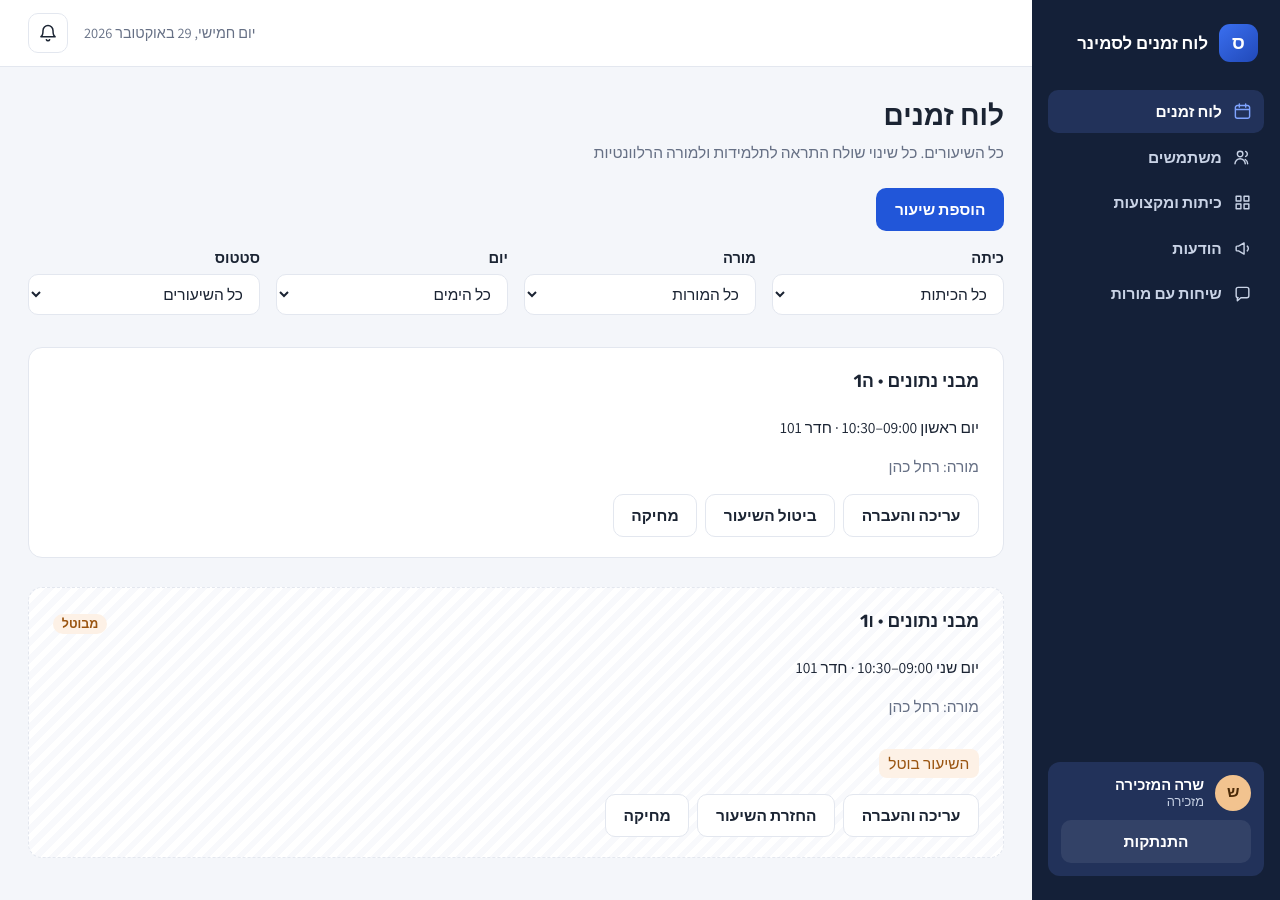
Test: ניהול לוח זמנים › החזרת שיעור מבוטל
Expected: the heading "מבני נתונים · ו1" is shown, [860, 608, 979, 634]
Step 1. Click the button "החזרת השיעור" → (766, 815), box [698, 794, 835, 837]
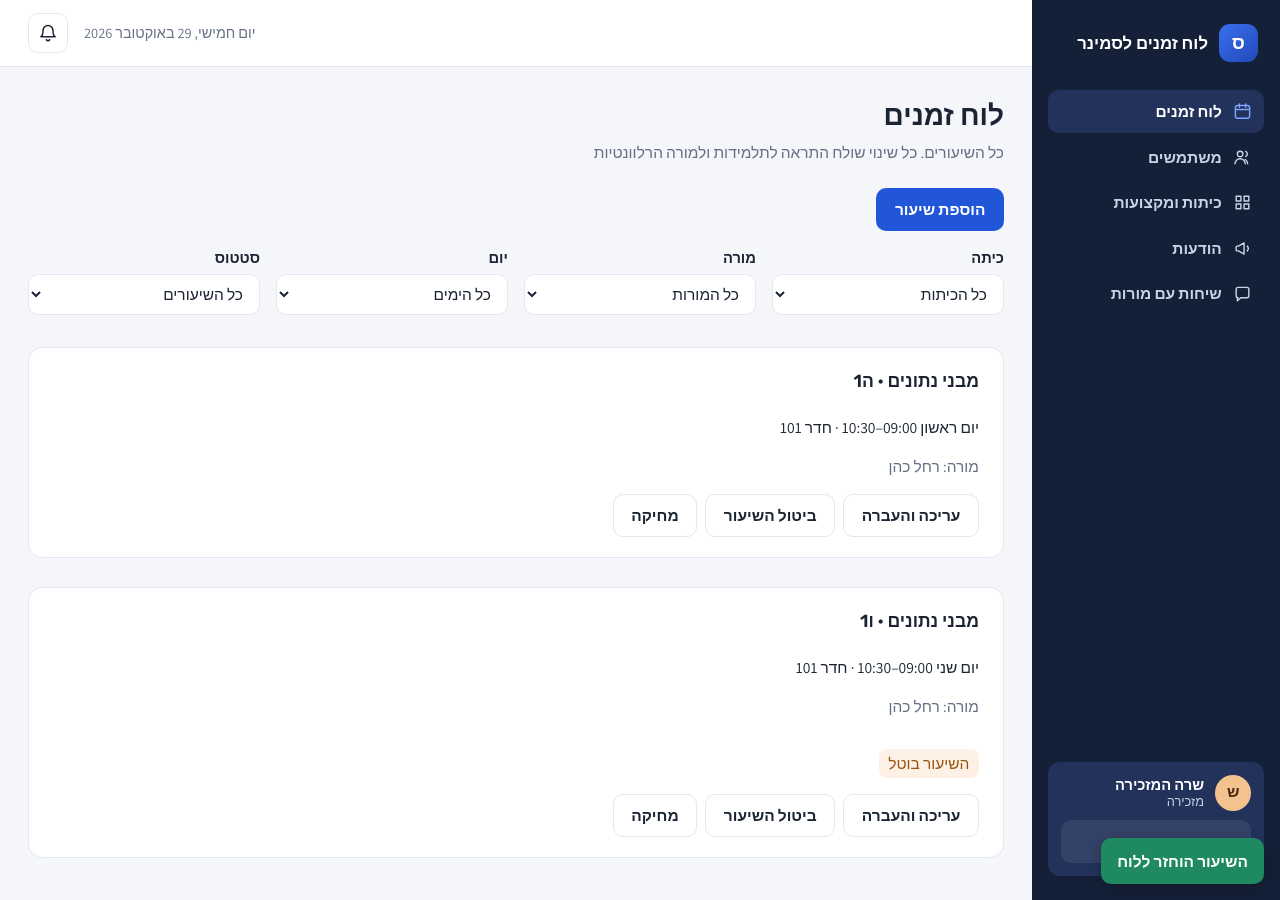
Expected: the text "השיעור הוחזר ללוח" is shown, [1101, 838, 1264, 884]
Expected: the text "מבוטל" is gone
